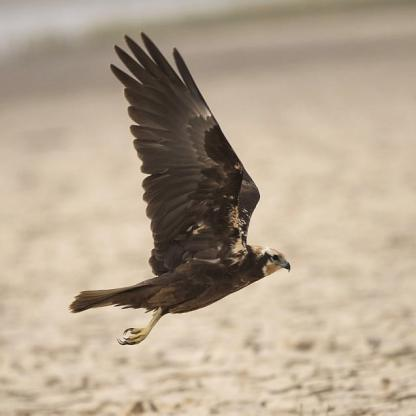Burung: (69, 34, 294, 345)
